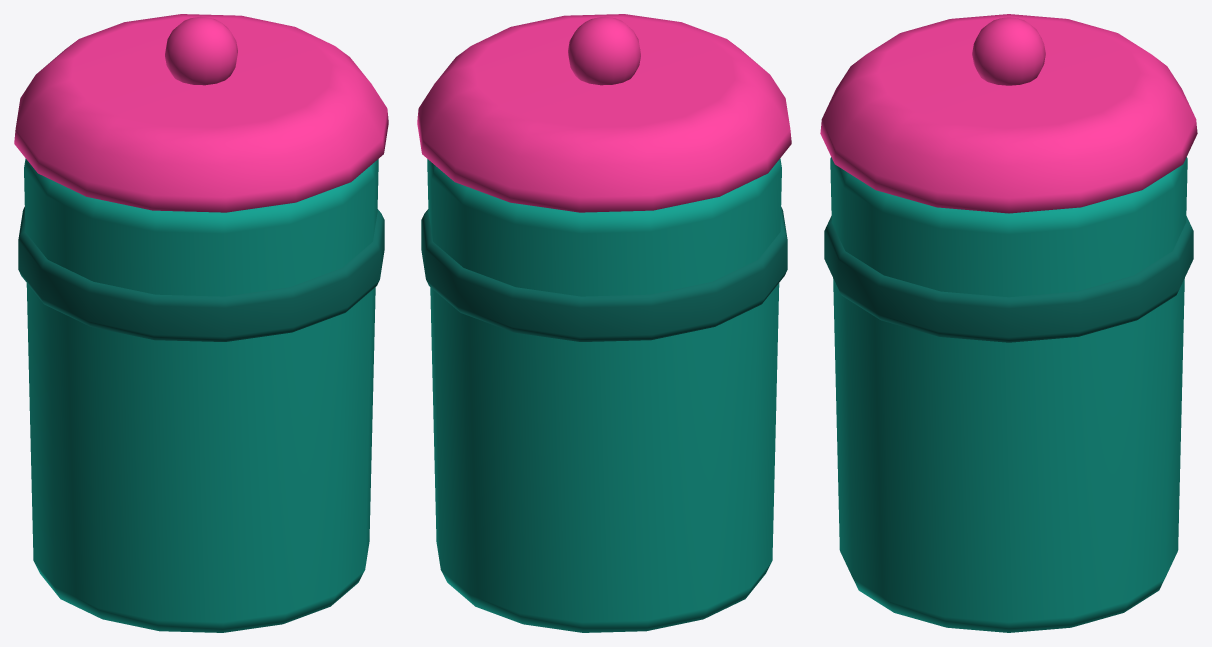
Rendered from trash_bin.glb.
3 views of the same model, side by side, from view 1: azimuth 30°, elevation 25°; view 2: azimuth 150°, elevation 25°; view 3: azimuth 270°, elevation 25° (orthographic).
Visible parts, largest first — view 1: TrashBin; view 2: TrashBin; view 3: TrashBin.
Boxes of the visible parts, x1,y1,x2,y2 form: TrashBin: (14, 14, 388, 632); TrashBin: (417, 14, 791, 632); TrashBin: (820, 14, 1197, 632).
Size of the model in its own units: 0.7155 by 1.15 by 0.7155.
